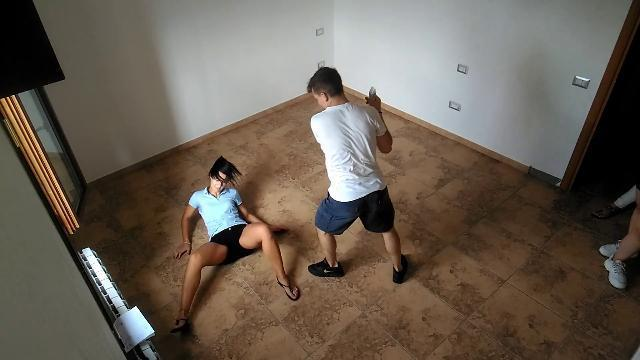non-violence: (597, 208, 640, 288)
violence: (174, 65, 410, 331)
